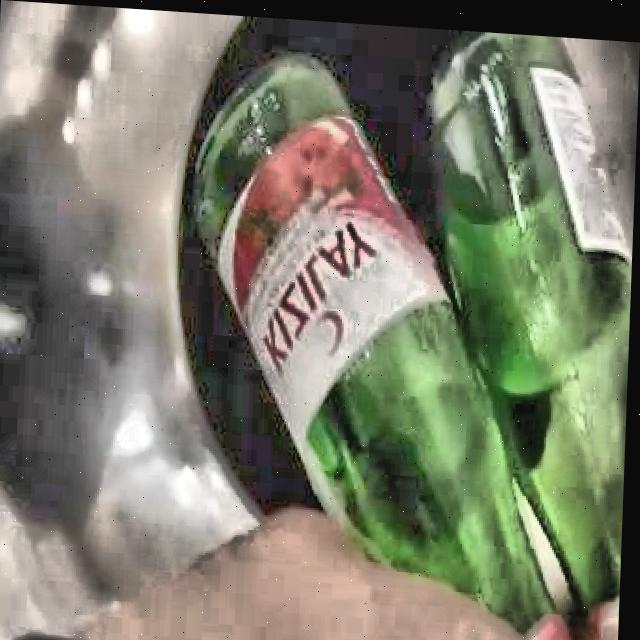glass: (197, 25, 634, 634)
